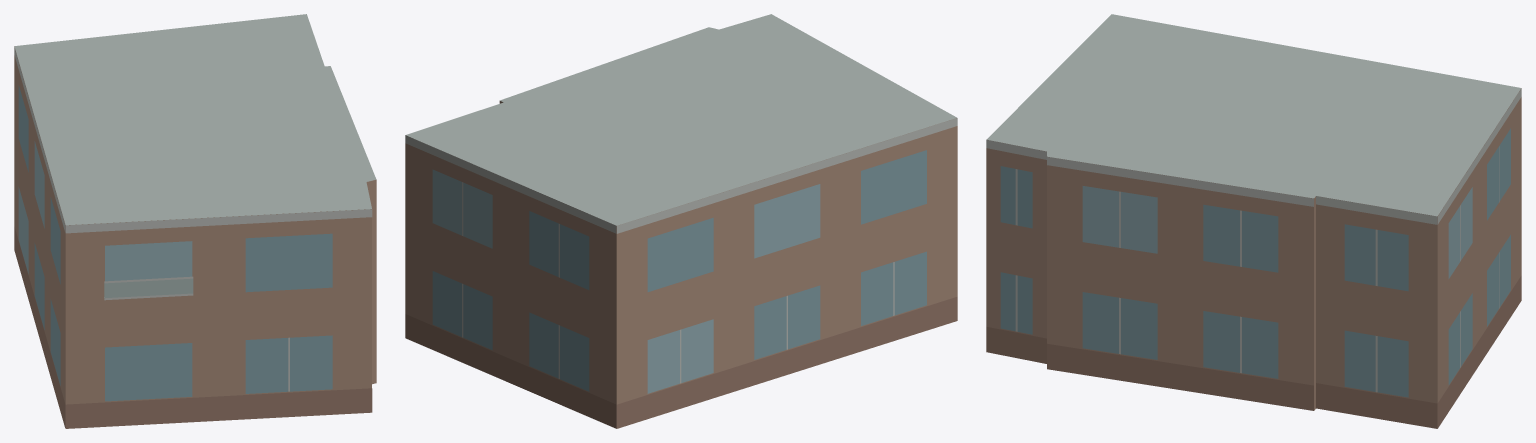
The model's file is survey-upis-32527831.glb.
3 views of the same model, side by side, from view 1: azimuth 30°, elevation 25°; view 2: azimuth 150°, elevation 25°; view 3: azimuth 270°, elevation 25° (orthographic). The views are drawn at different scales.
Parts seen in each view (by area): view 1: survey-upis-32527831.tmp; view 2: survey-upis-32527831.tmp; view 3: survey-upis-32527831.tmp.
Part boxes in pixels (x1,y1,x2,y2): survey-upis-32527831.tmp: (14,14,376,428); survey-upis-32527831.tmp: (405,14,957,428); survey-upis-32527831.tmp: (986,14,1521,428).
Bounding box in the file's own units: 12.47 × 6.1 × 13.94.
